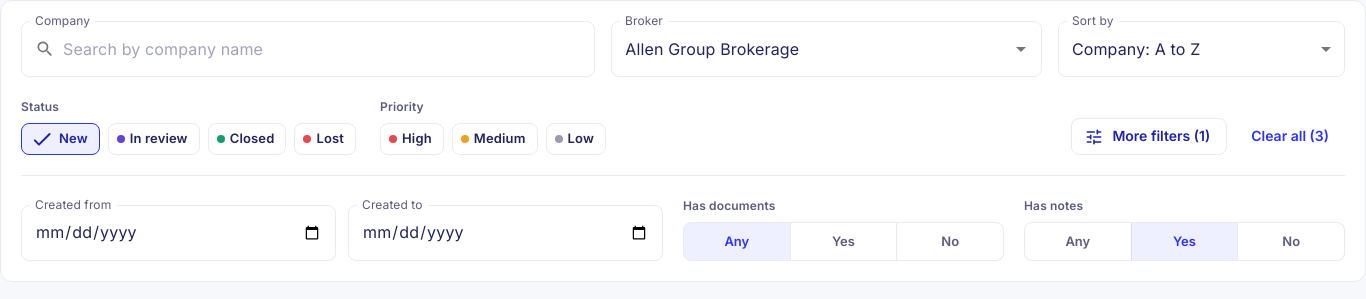
Test: SubmissionFilters on desktop › clears every filter at once but keeps the sort
Click the button "Clear all (3)" at [1290, 137], box [1235,118,1345,155]
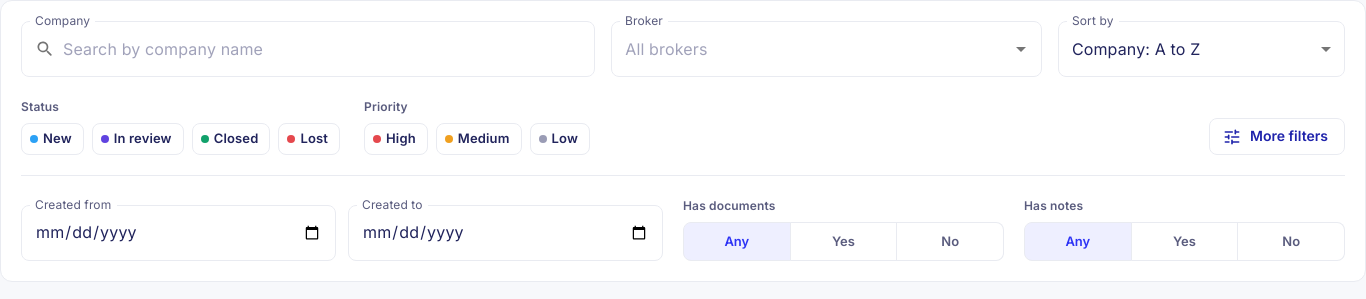
Expected: the button "Clear all" is gone
